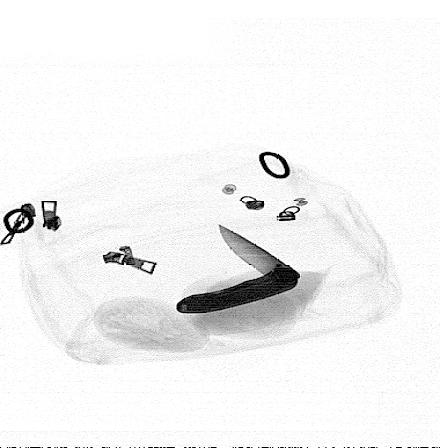Knife: (174, 223, 302, 315)
